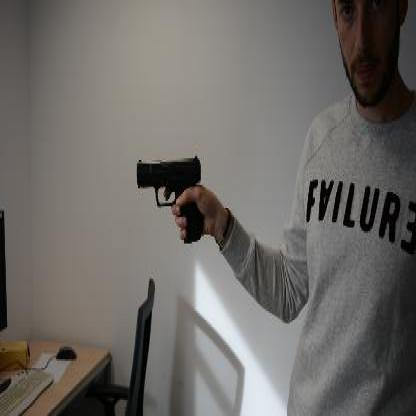pistol: (135, 154, 201, 244)
